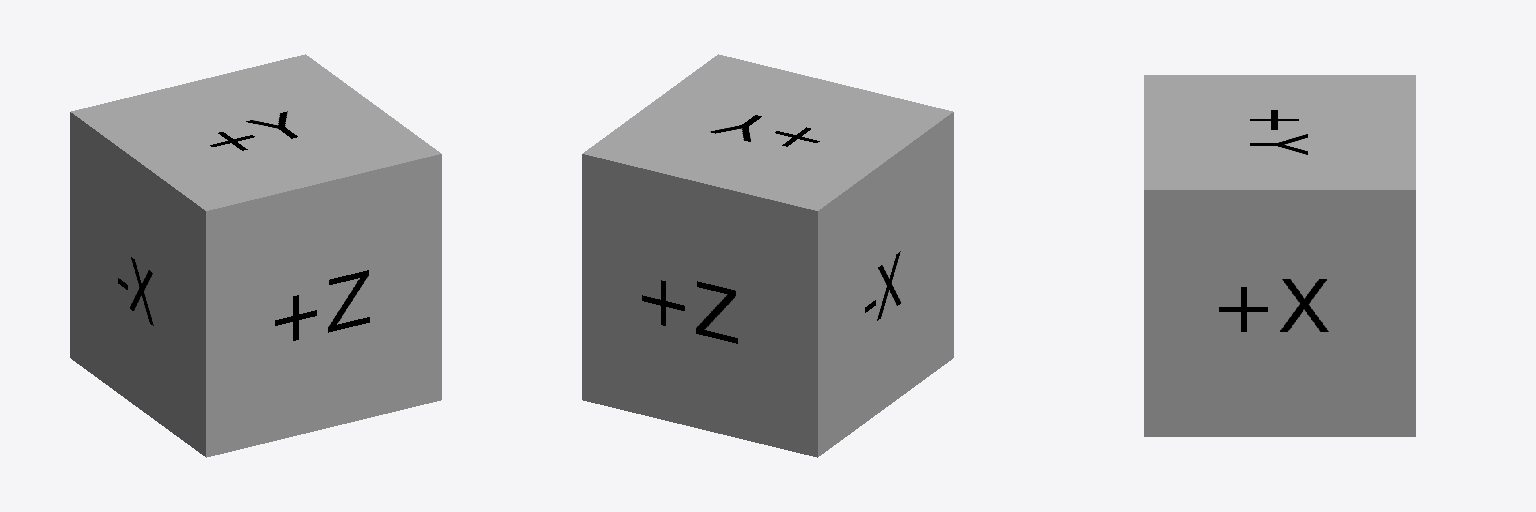
3 renders of one model, left to right at view 1: azimuth 30°, elevation 25°; view 2: azimuth 150°, elevation 25°; view 3: azimuth 270°, elevation 25°, orthographic.
Visible parts, largest first — view 1: Cube; view 2: Cube; view 3: Cube.
Boxes of the visible parts, <box> form: Cube: <box>70,54,441,457</box>; Cube: <box>582,54,953,457</box>; Cube: <box>1144,75,1415,436</box>.
Size of the model in its own units: 2 by 2 by 2.
1 materials, 1 textured.